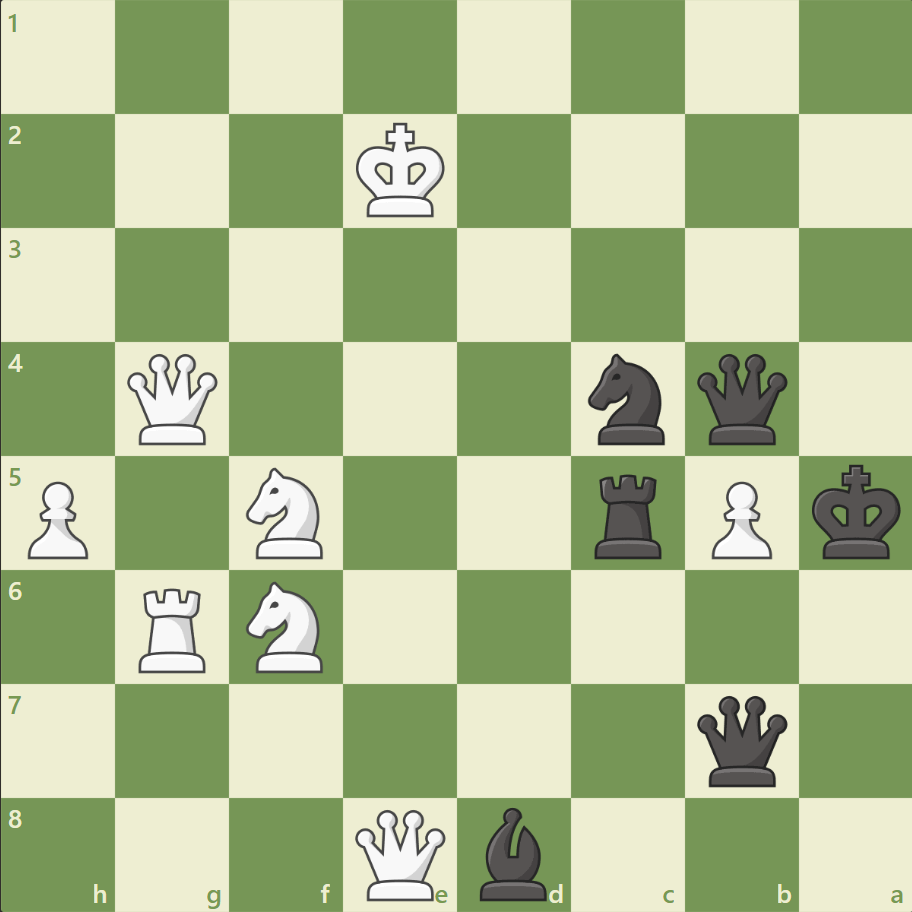K: (351, 117, 451, 225)
N: (238, 461, 335, 564), (238, 575, 335, 677)
P: (701, 473, 776, 564), (20, 473, 95, 564)
Q: (124, 349, 223, 449), (351, 804, 450, 903)
R: (133, 579, 215, 676)
b: (471, 801, 555, 904)
k: (806, 458, 906, 566)
n: (579, 348, 676, 450)
q: (691, 349, 790, 449), (691, 690, 790, 789)
r: (587, 466, 670, 563)
